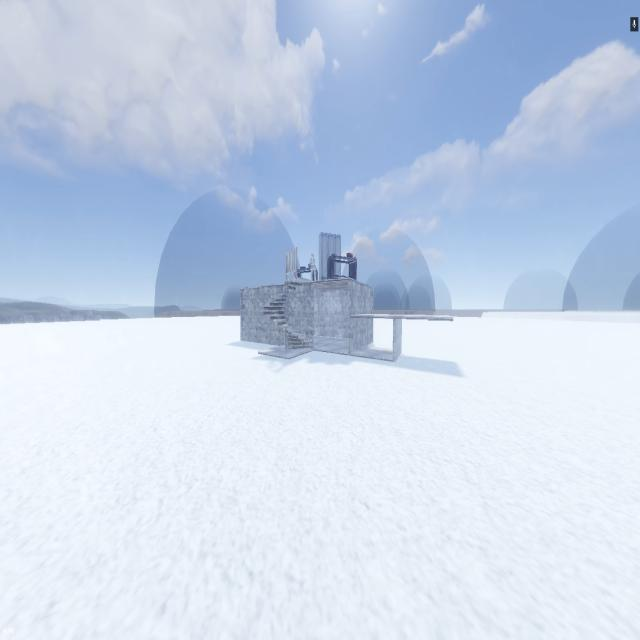Player: (310, 252, 316, 281)
